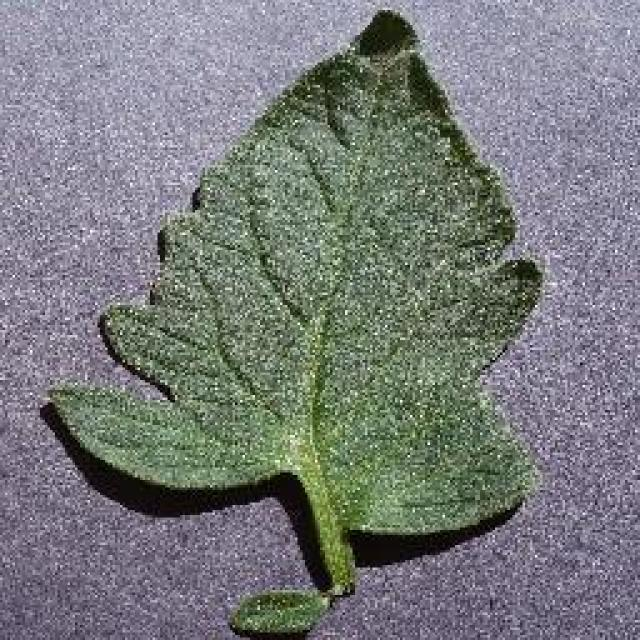Tomato healthy leaf: (52, 19, 540, 586)
